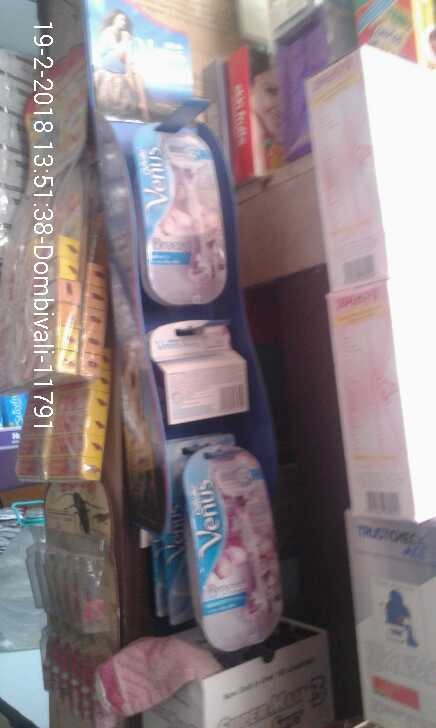venus: (175, 457, 287, 646), (123, 124, 231, 306)
